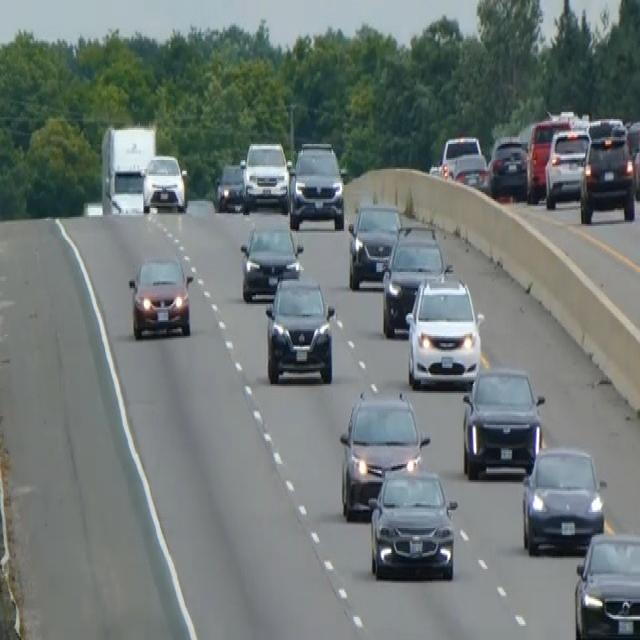car: (338, 388, 429, 519), (367, 464, 458, 581), (461, 363, 545, 478), (520, 442, 605, 554), (404, 272, 484, 389), (264, 272, 335, 384), (381, 222, 447, 336), (573, 530, 639, 638), (127, 252, 193, 340), (578, 124, 635, 224), (239, 220, 303, 302), (288, 139, 344, 229), (347, 199, 402, 288), (543, 126, 591, 208), (526, 116, 570, 202), (242, 138, 289, 210), (487, 133, 529, 201), (438, 134, 488, 190), (142, 151, 187, 212), (213, 160, 247, 212), (452, 151, 489, 192), (632, 137, 639, 201)
lorry: (99, 121, 156, 215)
